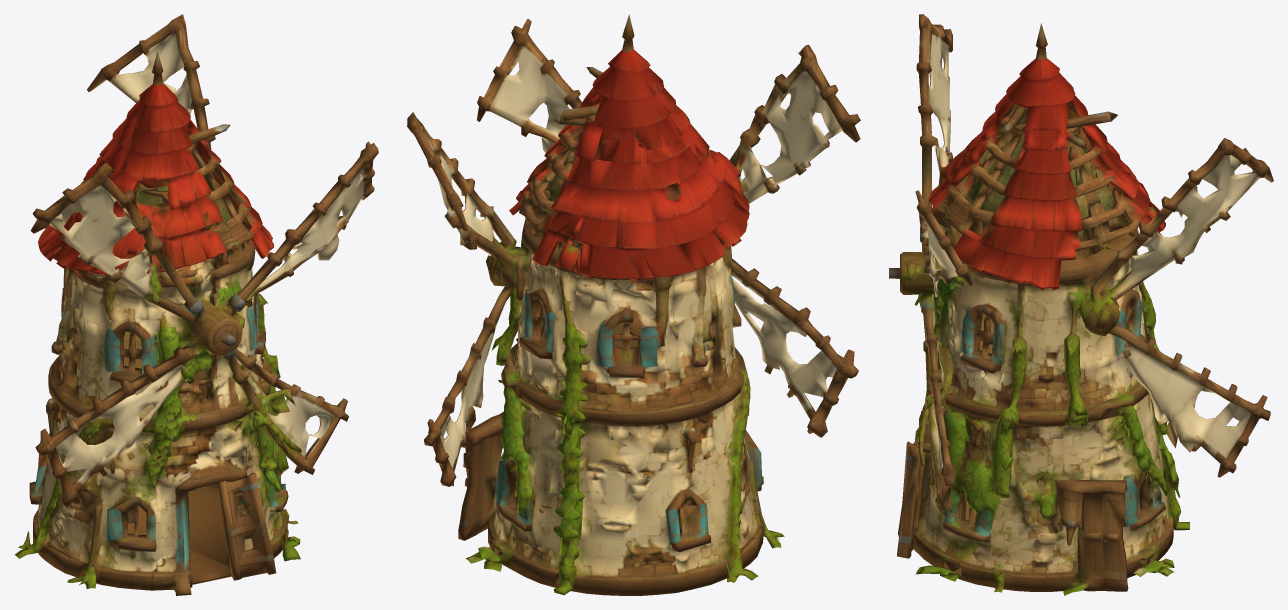
Rendered from ruined_windmill.glb.
The picture shows the model from 3 angles, left to right: view 1: azimuth 30°, elevation 25°; view 2: azimuth 150°, elevation 25°; view 3: azimuth 270°, elevation 25°; orthographic projection. The views are drawn at different scales.
Parts seen in each view (by area): view 1: tripo_node_8e89dde4-59a7-478a-98ce-e738b5c357fd; view 2: tripo_node_8e89dde4-59a7-478a-98ce-e738b5c357fd; view 3: tripo_node_8e89dde4-59a7-478a-98ce-e738b5c357fd.
Boxes of the visible parts, box(x1,y1,x2,y2) form: tripo_node_8e89dde4-59a7-478a-98ce-e738b5c357fd: box(14, 14, 378, 595); tripo_node_8e89dde4-59a7-478a-98ce-e738b5c357fd: box(407, 14, 860, 595); tripo_node_8e89dde4-59a7-478a-98ce-e738b5c357fd: box(889, 14, 1273, 595).
Size of the model in its own units: 0.7335 by 0.9786 by 0.6684.
Materials: 1 (1 with a texture image).
